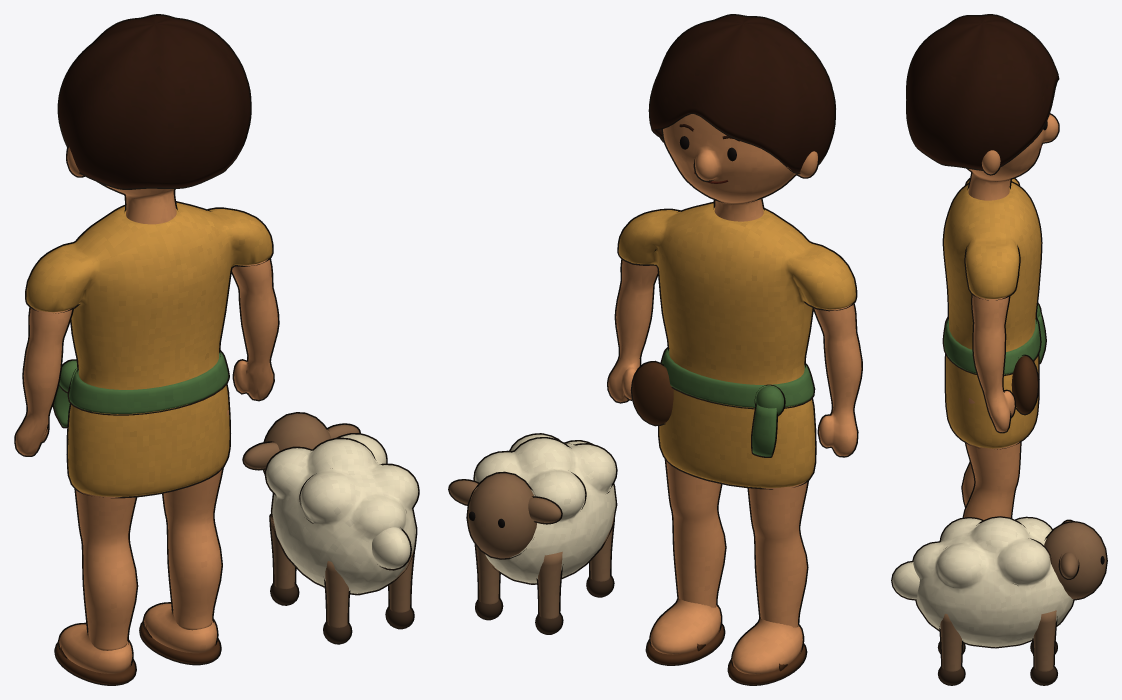
The model's file is david_mentor_v13.glb.
3 renders of one model, left to right at view 1: azimuth 30°, elevation 25°; view 2: azimuth 150°, elevation 25°; view 3: azimuth 270°, elevation 25°, orthographic. The views are drawn at different scales.
Visible parts, largest first — view 1: David_Mentor, David_CompanionLamb, David_Mentor_Outline, David_CompanionLamb_Outline; view 2: David_Mentor, David_CompanionLamb, David_Mentor_Outline, David_CompanionLamb_Outline; view 3: David_Mentor, David_CompanionLamb, David_Mentor_Outline, David_CompanionLamb_Outline.
Part boxes in pixels (x1,y1,x2,y2): David_Mentor: [15, 15, 277, 684]; David_CompanionLamb: [243, 413, 418, 642]; David_Mentor_Outline: [14, 14, 279, 685]; David_CompanionLamb_Outline: [242, 412, 419, 644]; David_Mentor: [608, 15, 861, 684]; David_CompanionLamb: [449, 434, 615, 633]; David_Mentor_Outline: [607, 14, 862, 685]; David_CompanionLamb_Outline: [448, 433, 617, 634]; David_Mentor: [907, 15, 1058, 519]; David_CompanionLamb: [892, 517, 1106, 684]; David_Mentor_Outline: [906, 14, 1059, 518]; David_CompanionLamb_Outline: [891, 516, 1107, 685].
Size of the model in its own units: 0.7628 by 1.23 by 0.4272.
12 materials, 12 textured.
